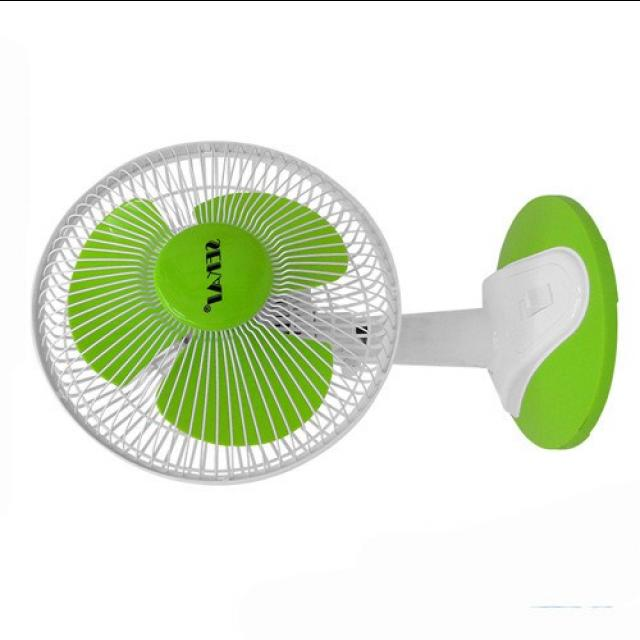fan: (14, 129, 618, 485)
